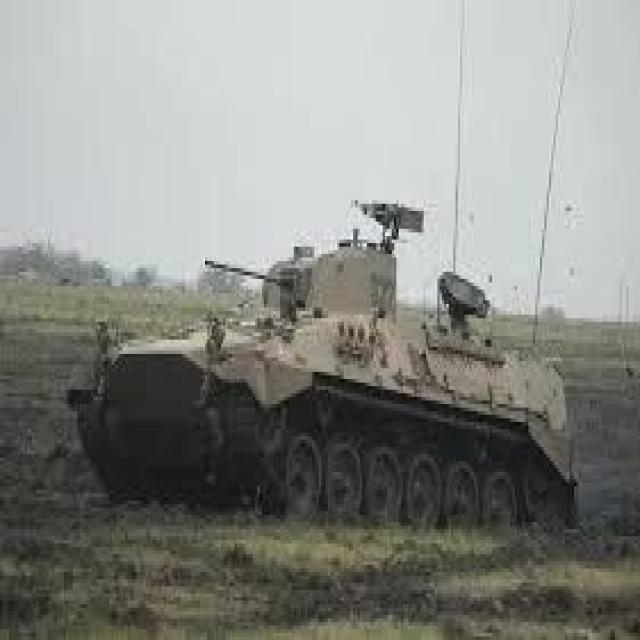Tanks: (94, 222, 560, 511)
